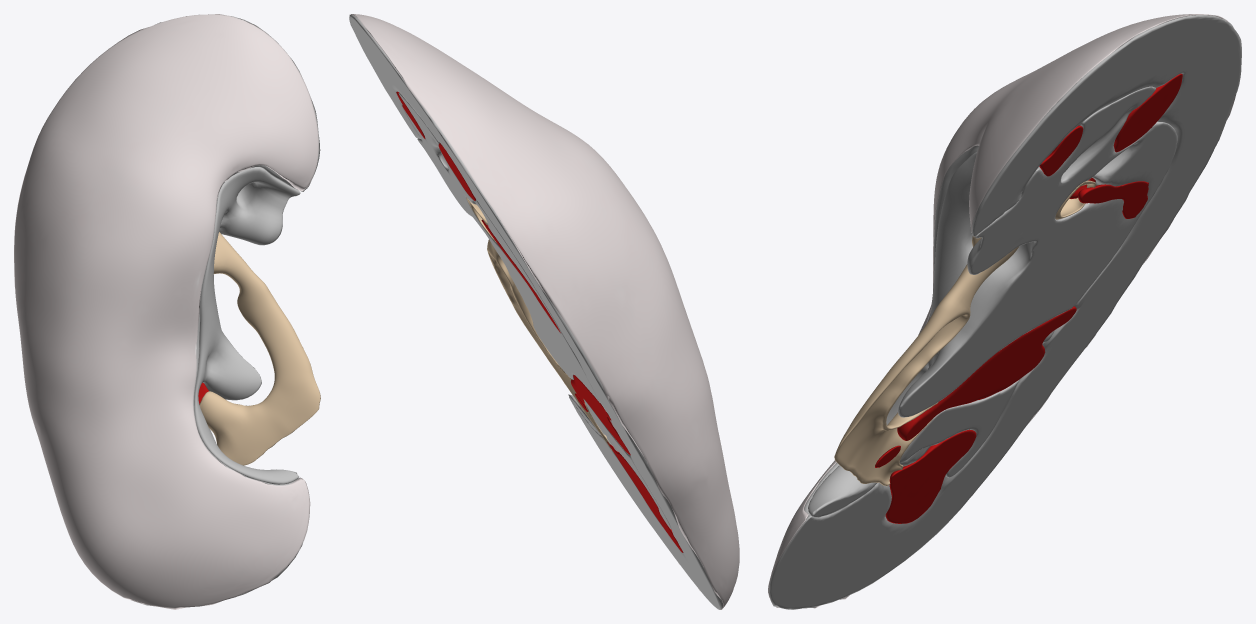
Rendered from VHM_Kidney_R_Bisect_Anterior.fbx.
3 views of the same model, side by side, from view 1: azimuth 30°, elevation 25°; view 2: azimuth 150°, elevation 25°; view 3: azimuth 270°, elevation 25° (orthographic). The views are drawn at different scales.
Parts seen in each view (by area): view 1: VHM_Kidney_R_Capsule_Anterior, VHM_Kidney_R_Calyses_Anterior, VHM_Kidney_R_RenalColumns_Anterior, VHM_Kidney_R_OuterCortex_Anterior; view 2: VHM_Kidney_R_Capsule_Anterior, VHM_Kidney_R_OuterCortex_Anterior, VHM_Kidney_R_RenalColumns_Anterior, VHM_Kidney_R_Pyramids_Anterior, VHM_Kidney_R_Calyses_Anterior; view 3: VHM_Kidney_R_OuterCortex_Anterior, VHM_Kidney_R_RenalColumns_Anterior, VHM_Kidney_R_Pyramids_Anterior, VHM_Kidney_R_Capsule_Anterior, VHM_Kidney_R_Calyses_Anterior.
Part boxes in pixels (x1,y1,x2,y2): VHM_Kidney_R_Capsule_Anterior: (14,14,318,609); VHM_Kidney_R_Calyses_Anterior: (199,232,320,465); VHM_Kidney_R_RenalColumns_Anterior: (194,167,300,484); VHM_Kidney_R_OuterCortex_Anterior: (75,16,320,606); VHM_Kidney_R_Capsule_Anterior: (351,14,739,609); VHM_Kidney_R_OuterCortex_Anterior: (349,14,723,609); VHM_Kidney_R_RenalColumns_Anterior: (398,92,671,528); VHM_Kidney_R_Pyramids_Anterior: (396,91,683,552); VHM_Kidney_R_Calyses_Anterior: (466,197,613,452); VHM_Kidney_R_OuterCortex_Anterior: (769,15,1241,609); VHM_Kidney_R_RenalColumns_Anterior: (808,86,1177,517); VHM_Kidney_R_Pyramids_Anterior: (875,73,1182,523); VHM_Kidney_R_Capsule_Anterior: (768,14,1236,608); VHM_Kidney_R_Calyses_Anterior: (834,180,1095,486).
Size of the model in its own units: 7.57 by 12.85 by 8.18.
